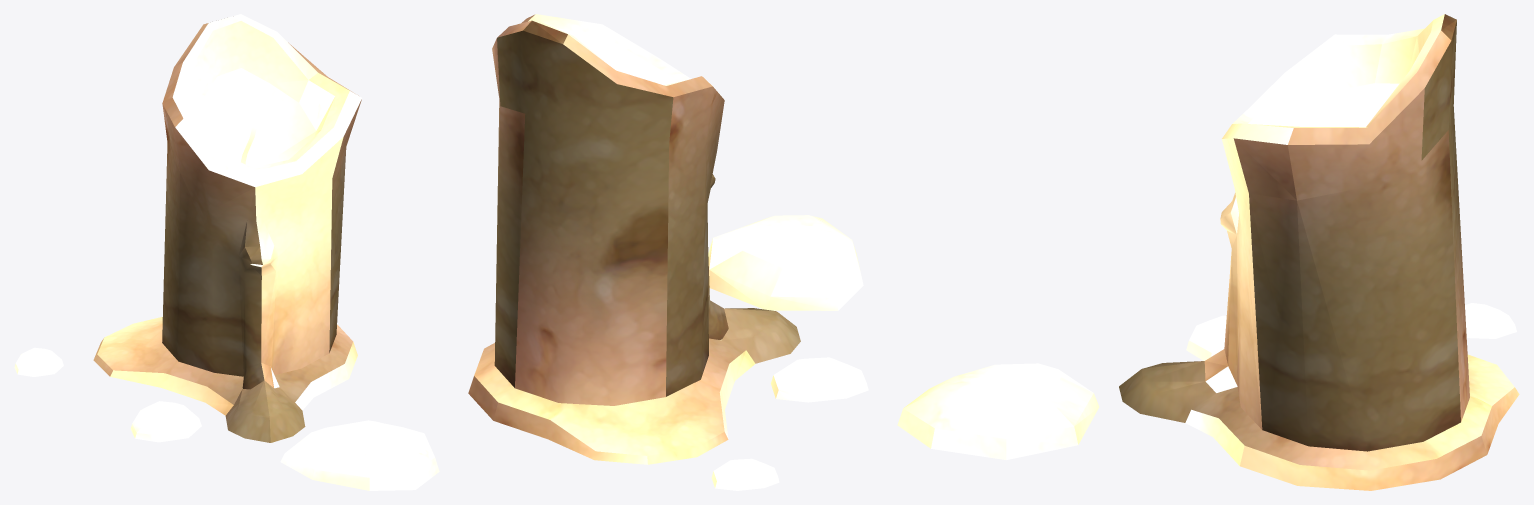
File: CandleBig.dae
3 views of the same model, side by side, from view 1: azimuth 30°, elevation 25°; view 2: azimuth 150°, elevation 25°; view 3: azimuth 270°, elevation 25° (orthographic). The views are drawn at different scales.
Parts seen in each view (by area): view 1: CandleBig; view 2: CandleBig; view 3: CandleBig.
Part boxes in pixels (box(x1,y1,x2,y2)): CandleBig: box(14, 14, 439, 490); CandleBig: box(468, 14, 868, 490); CandleBig: box(897, 14, 1519, 490).
Size of the model in its own units: 0.206 by 0.2206 by 0.2992.
